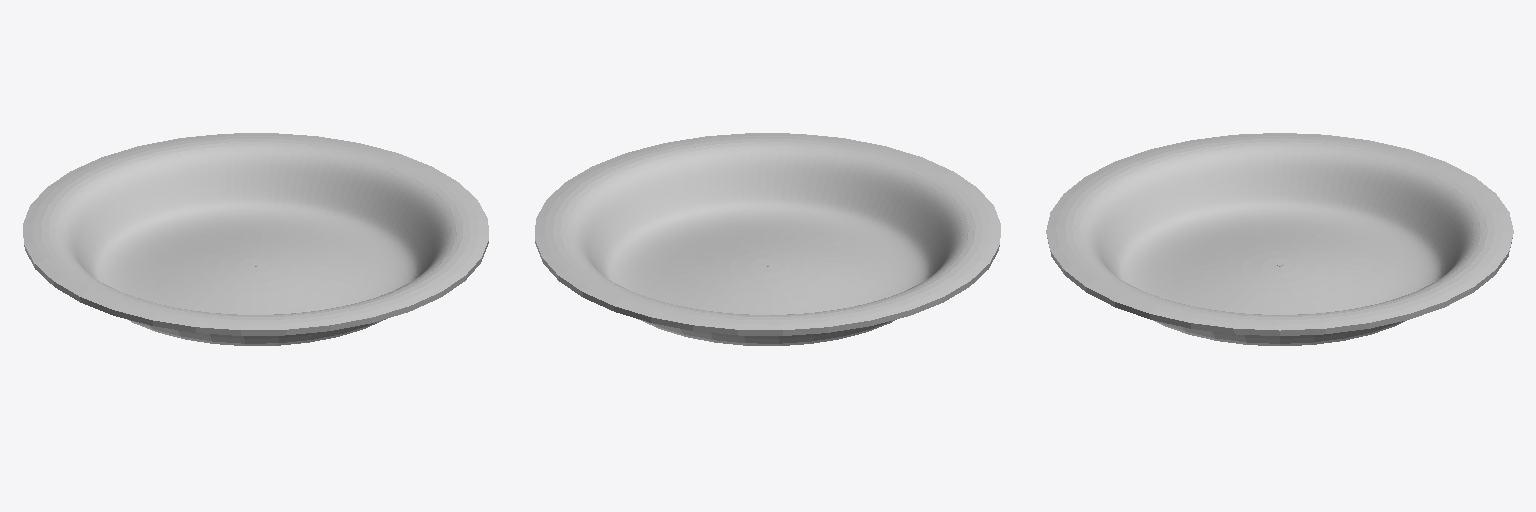
3 views of the same model, side by side, from view 1: azimuth 30°, elevation 25°; view 2: azimuth 150°, elevation 25°; view 3: azimuth 270°, elevation 25° (orthographic).
Parts seen in each view (by area): view 1: BowlI3; view 2: BowlI3; view 3: BowlI3.
Boxes of the visible parts, x1=… form: BowlI3: x1=23, y1=133, x2=488, y2=345; BowlI3: x1=535, y1=133, x2=1000, y2=345; BowlI3: x1=1046, y1=133, x2=1513, y2=345.
Bounding box in the file's own units: 5.7 × 0.7137 × 5.7.